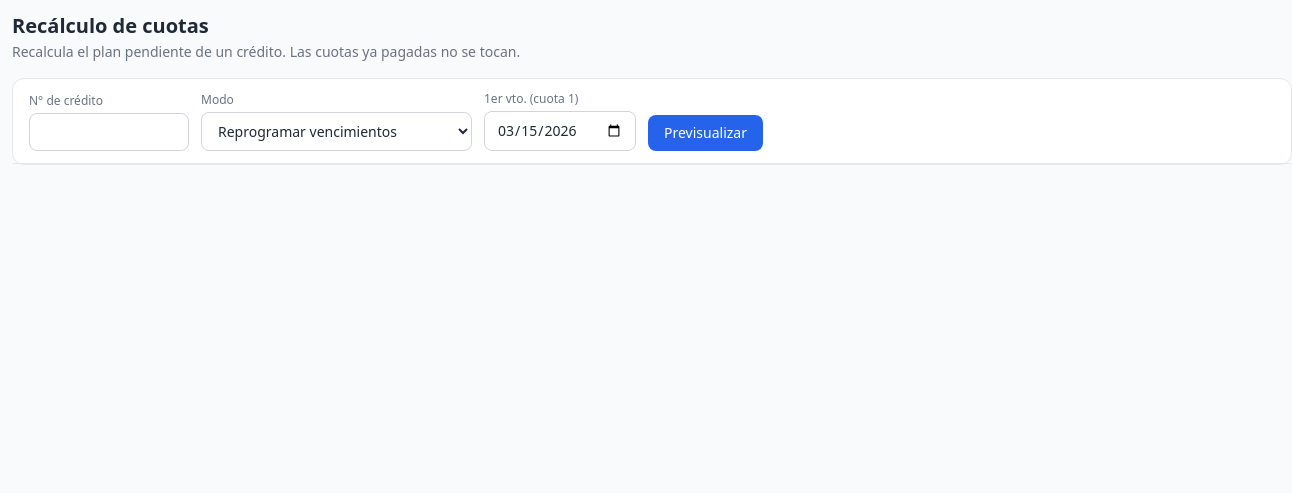
Test: Recálculo de cuotas › previsualiza reprogramando vencimientos y compara actual contra propuesto
Type "900" into the field labelled "N° de crédito". click: [109, 132]
box: [29,113,189,151]
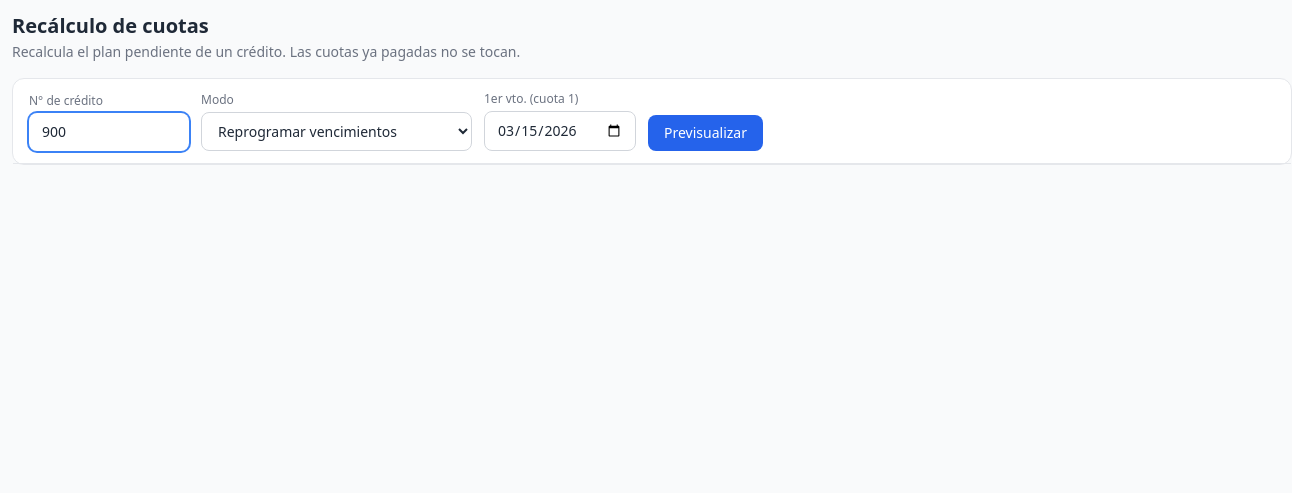
Click the button "Previsualizar". click: [706, 133]
box: [648,115,763,151]
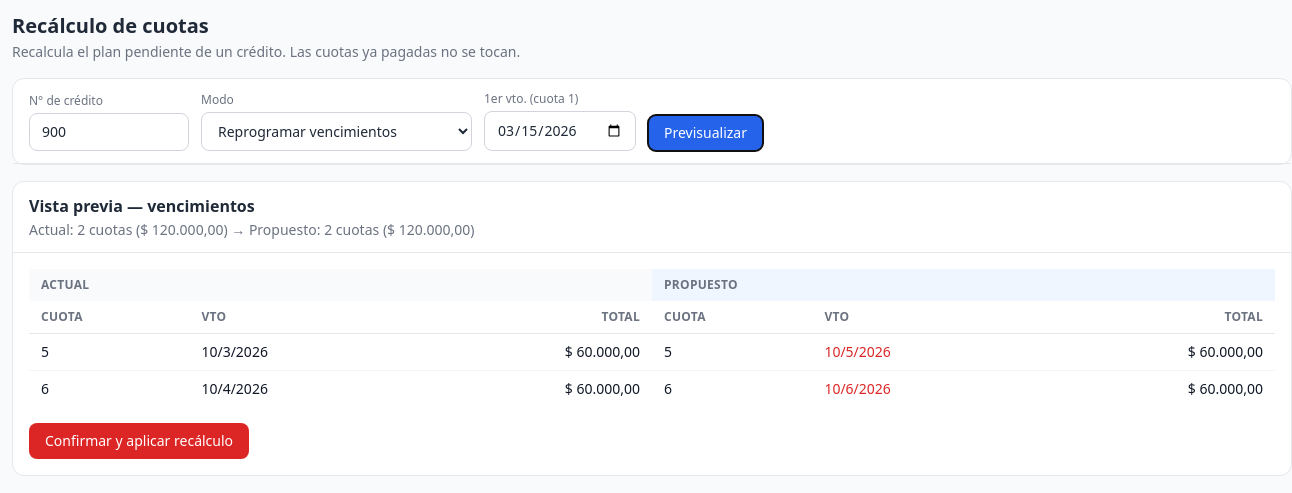
Check: the heading "Vista previa — vencimientos" is shown, box [29,195,255,217]
Check: the text "10/5/2026" is shown, box [812,334,1033,370]
